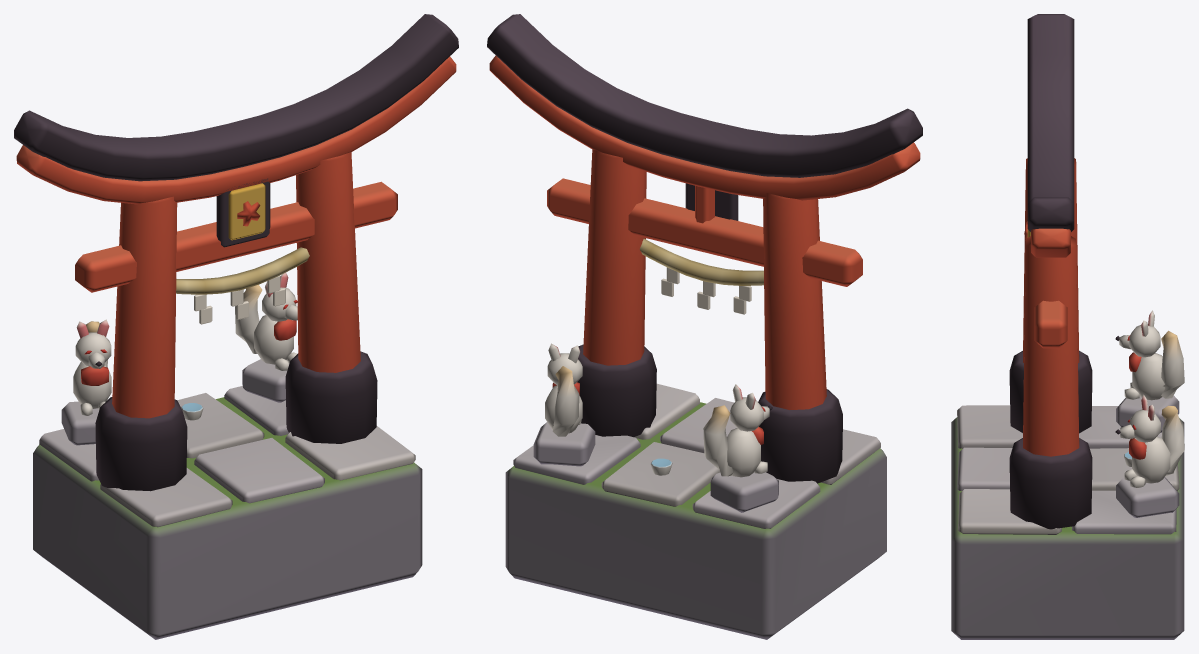
The model's file is miniTorii.glb.
3 renders of one model, left to right at view 1: azimuth 30°, elevation 25°; view 2: azimuth 150°, elevation 25°; view 3: azimuth 270°, elevation 25°, orthographic. The views are drawn at different scales.
Parts seen in each view (by area): view 1: miniTorii; view 2: miniTorii; view 3: miniTorii.
Boxes of the visible parts, x1,y1,x2,y2 form: miniTorii: (14,14,458,639); miniTorii: (487,14,922,639); miniTorii: (951,14,1184,639).
Bounding box in the file's own units: 1.4 × 1.57 × 0.7018.
